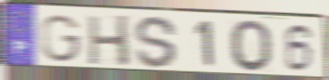1: (192, 19, 215, 69)
6: (283, 23, 315, 73)
G: (39, 13, 84, 64)
H: (85, 14, 132, 68)
O: (228, 19, 275, 74)
S: (133, 14, 179, 70)
